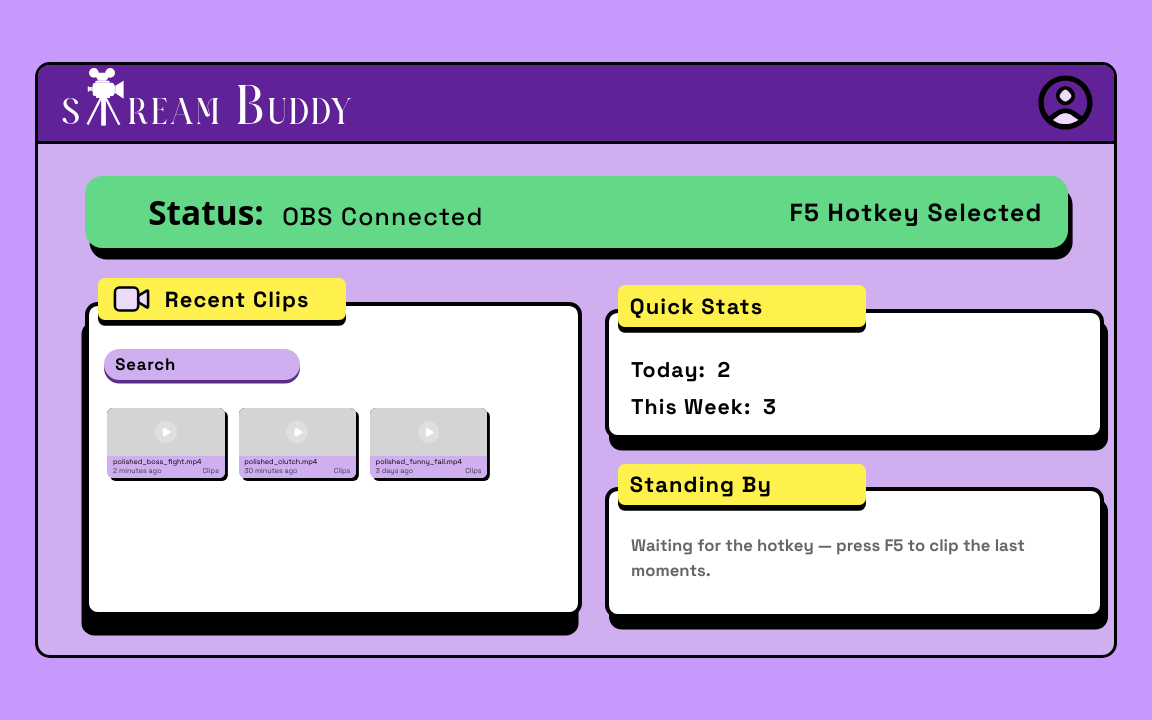
Test: selecting clips › Escape clears the selection
Type keys "{Control>}"
Click the button titled "polished_clutch.mp4": (297, 443) [238,408,356,478]
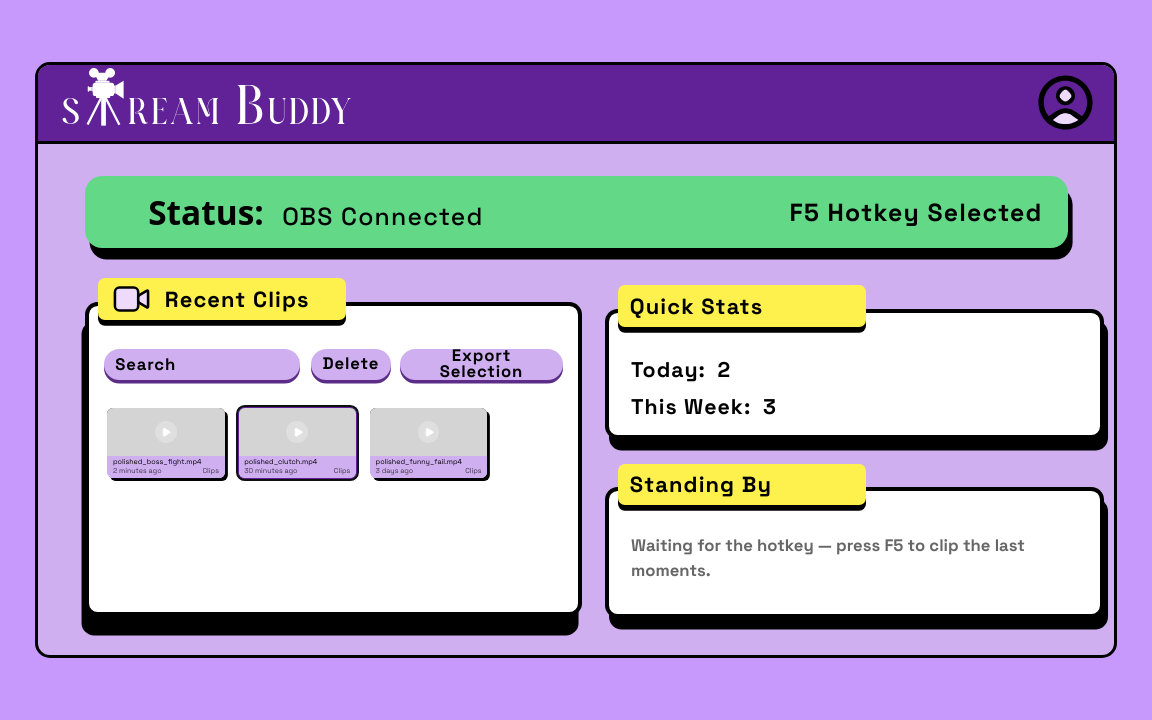
Type keys "{/Control}"
Click the button titled "polished_boss_fight.mp4": (166, 443) [107,408,225,478]
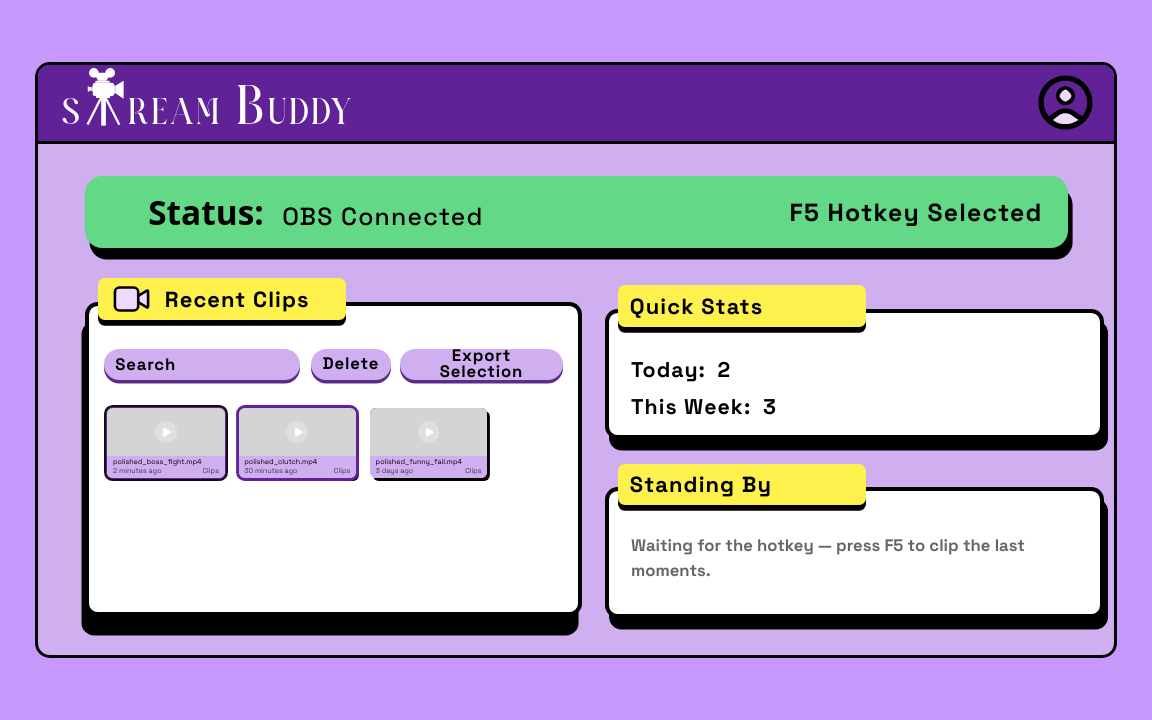
Press Escape
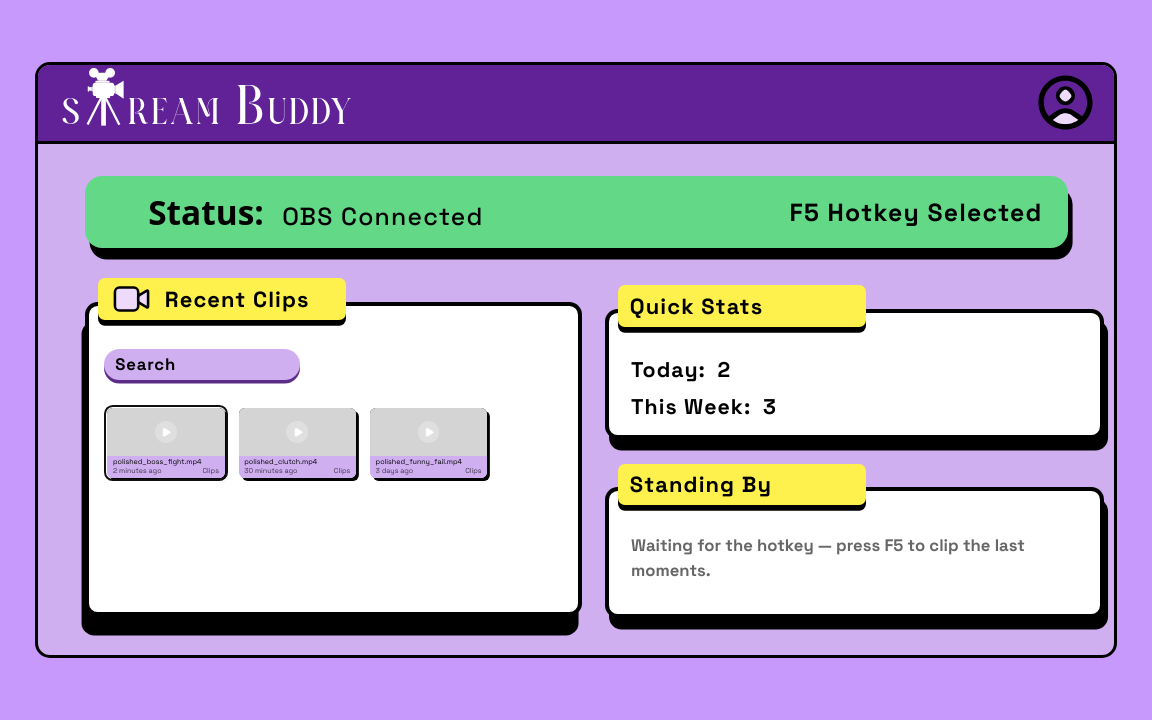
Expected: the button "Export Selection" is gone
